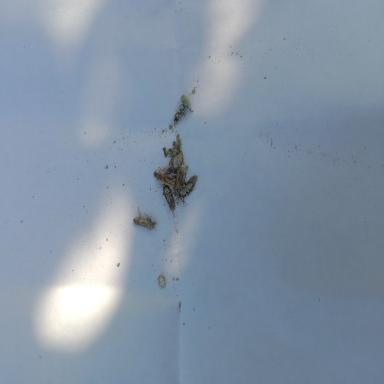pbw: (173, 174, 199, 206), (156, 182, 176, 218), (133, 206, 157, 230), (153, 167, 176, 188), (175, 165, 186, 189)
